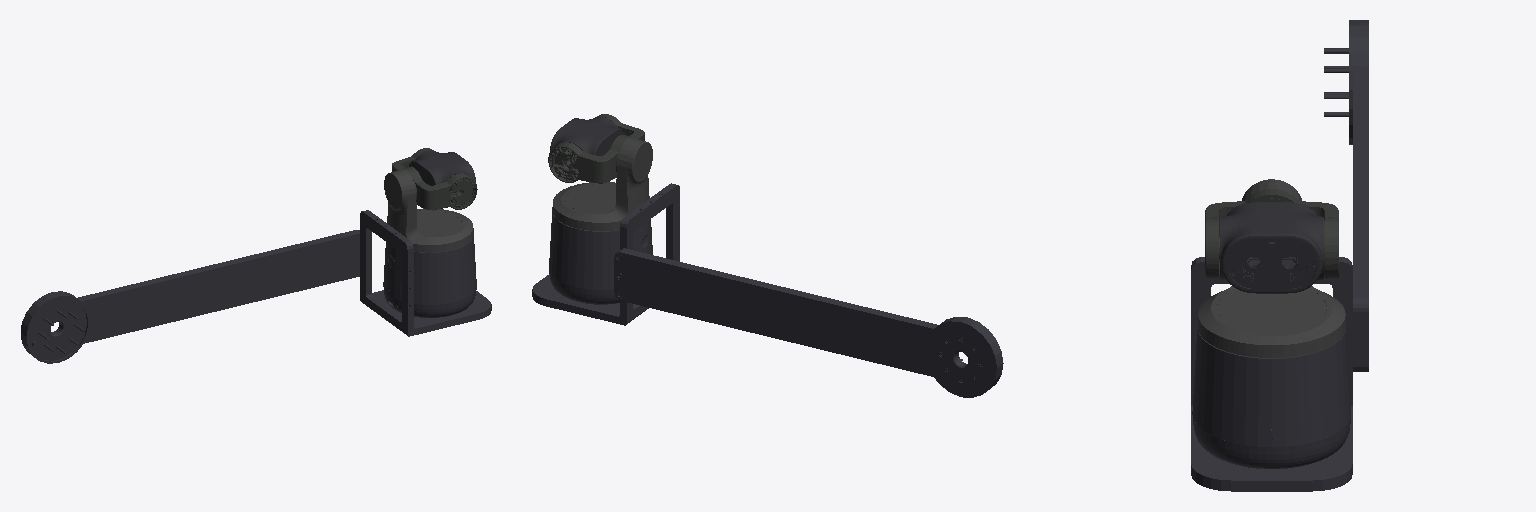
The robot description file, URDF, robot "eMeetArm_with_chassis":
<!--
  eMeetArm_with_chassis.urdf
  合并描述：FW-mini 底盘 + eMeetArm 机械臂

  TF 树结构：
    base_link (底盘根节点，nav2 使用)
      └─ arm_base_joint (fixed)
           └─ arm_base_link (机械臂基座，原 base_link 重命名)
                └─ Joint1 → Link1
                     └─ Joint2 → Link2
                          └─ Joint3 → Link3
                               └─ Joint4 → Link4
                                    └─ Joint5 → Link5
                                         └─ Joint6 → Link6
                                              └─ tool0_joint → tool0
                                                   └─ camera_optical_joint → camera_optical_frame

  说明：
  - 删除了原机械臂 URDF 中的 world / world_joint，底盘 base_link 作为根节点
  - 机械臂原 base_link 重命名为 arm_base_link，避免与底盘冲突
  - arm_base_joint 的 origin xyz 为机械臂相对底盘的安装偏移，按实物测量后调整
  - 底盘 robot_state_publisher 已在 FW-mini.launch.py 中禁用，
    由 real.launch.py 统一发布此 URDF
-->
<robot name="eMeetArm_with_chassis">

  <!-- ══════════════════════════════════════════════════════════════════
       底盘（FW-mini）
       base_link 为整个机器人的根坐标系（TF 树根节点，nav2 导航使用）
       ════════════════════════════════════════════════════════════════ -->
  <link name="base_link">
    <visual>
      <origin xyz="0.235 0.175 0" rpy="1.57 0 -1.57"/>
      <geometry>
        <mesh filename="package://yhs_chassis_description/meshes/FW-mini.STL"/>
      </geometry>
      <material name="">
        <color rgba="0.8 0.8 0.8 1"/>
      </material>
    </visual>
    <collision>
      <origin xyz="0.235 0.175 0" rpy="1.57 0 -1.57"/>
      <geometry>
        <mesh filename="package://yhs_chassis_description/meshes/FW-mini.STL"/>
      </geometry>
    </collision>
    <!-- 占位惯量：实物模式不使用，仿真时按实际质量调整 -->
    <inertial>
      <origin xyz="0 0 0.1" rpy="0 0 0"/>
      <mass value="20.0"/>
      <inertia ixx="0.5" ixy="0" ixz="0" iyy="0.5" iyz="0" izz="0.8"/>
    </inertial>
  </link>

  <!-- 机械臂安装关节：底盘 base_link → 机械臂 arm_base_link（固定）
       请按实物测量机械臂基座相对底盘原点的位置后修改 xyz -->
  <joint name="arm_base_joint" type="fixed">
    <parent link="base_link"/>
    <child link="arm_base_link"/>
    <origin xyz="0 0 0.31" rpy="0 0 0"/>
  </joint>

  <!-- ══════════════════════════════════════════════════════════════════
       机械臂（eMeetArm）
       原 base_link 重命名为 arm_base_link，避免与底盘 base_link 冲突
       ════════════════════════════════════════════════════════════════ -->
  <link name="arm_base_link">
    <inertial>
      <origin
        xyz="-1.26513871156475E-05 -1.5742724565615E-05 0.0452777610383739"
        rpy="0 0 0"/>
      <mass value="2.9887249749171"/>
      <inertia
        ixx="0.0136862770640689"
        ixy="6.69045000229793E-07"
        ixz="-3.08621535501323E-07"
        iyy="0.0112779246258948"
        iyz="-2.26930660317598E-07"
        izz="0.0223184454586288"/>
    </inertial>
    <visual>
      <origin xyz="0 0 0" rpy="0 0 0"/>
      <geometry>
        <mesh filename="package://robot_arm_description/meshes/base_link.STL"/>
      </geometry>
      <material name="">
        <color rgba="0.22 0.22 0.23 1"/>
      </material>
    </visual>
    <collision>
      <origin xyz="0 0 0" rpy="0 0 0"/>
      <geometry>
        <mesh filename="package://robot_arm_description/meshes/base_link.STL"/>
      </geometry>
    </collision>
  </link>

  <link name="Link1">
    <inertial>
      <origin
        xyz="-7.4393277062379E-05 -0.00743203317797858 0.128765008589431"
        rpy="0 0 0"/>
      <mass value="2.35824980558236"/>
      <inertia
        ixx="0.00383791573125331"
        ixy="7.01396501492847E-07"
        ixz="-3.09202743571665E-06"
        iyy="0.00465819508220185"
        iyz="-0.000530039602599771"
        izz="0.00221408091488039"/>
    </inertial>
    <visual>
      <origin xyz="0 0 0" rpy="0 0 0"/>
      <geometry>
        <mesh filename="package://robot_arm_description/meshes/Link1.STL"/>
      </geometry>
      <material name="">
        <color rgba="0.25 0.25 0.25 1"/>
      </material>
    </visual>
    <collision>
      <origin xyz="0 0 0" rpy="0 0 0"/>
      <geometry>
        <mesh filename="package://robot_arm_description/meshes/Link1.STL"/>
      </geometry>
    </collision>
  </link>

  <joint name="Joint1" type="revolute">
    <origin xyz="0 0 0.1078" rpy="0 0 0"/>
    <parent link="arm_base_link"/>
    <child link="Link1"/>
    <axis xyz="0 0 1"/>
    <limit lower="-3.1" upper="3.1" effort="5" velocity="3.14"/>
    <dynamics damping="1.0" friction="0.0"/>
  </joint>

  <link name="Link2">
    <inertial>
      <origin
        xyz="0.262334166073163 -2.30075418332643E-05 0.0292792731278192"
        rpy="0 0 0"/>
      <mass value="1.23593589919935"/>
      <inertia
        ixx="0.000521066265507803"
        ixy="1.66498206532369E-07"
        ixz="1.28943373675324E-05"
        iyy="0.00836492400345204"
        iyz="-2.82843566382884E-07"
        izz="0.00851304966664655"/>
    </inertial>
    <visual>
      <origin xyz="0 0 0" rpy="0 0 0"/>
      <geometry>
        <mesh filename="package://robot_arm_description/meshes/Link2.STL"/>
      </geometry>
      <material name="">
        <color rgba="0.28 0.27 0.27 1"/>
      </material>
    </visual>
    <collision>
      <origin xyz="0 0 0" rpy="0 0 0"/>
      <geometry>
        <mesh filename="package://robot_arm_description/meshes/Link2.STL"/>
      </geometry>
    </collision>
  </link>

  <joint name="Joint2" type="revolute">
    <origin xyz="0 -0.0625 0.1502" rpy="1.5708 -0.30769 -3.1416"/>
    <parent link="Link1"/>
    <child link="Link2"/>
    <axis xyz="0 0 1"/>
    <limit lower="-0.8" upper="3.14" effort="30" velocity="3.14"/>
    <dynamics damping="5.0" friction="0.0"/>
  </joint>

  <link name="Link3">
    <inertial>
      <origin
        xyz="0.250990565530514 0.00808545394179894 -0.0222401755365892"
        rpy="0 0 0"/>
      <mass value="0.752556593812719"/>
      <inertia
        ixx="0.000425309657305075"
        ixy="-5.61728607430966E-05"
        ixz="-1.50015547434599E-06"
        iyy="0.00322998845965891"
        iyz="-5.25098997553526E-07"
        izz="0.00319703542103549"/>
    </inertial>
    <visual>
      <origin xyz="0 0 0" rpy="0 0 0"/>
      <geometry>
        <mesh filename="package://robot_arm_description/meshes/Link3.STL"/>
      </geometry>
      <material name="">
        <color rgba="0.26 0.26 0.29 1"/>
      </material>
    </visual>
    <collision>
      <origin xyz="0 0 0" rpy="0 0 0"/>
      <geometry>
        <mesh filename="package://robot_arm_description/meshes/Link3.STL"/>
      </geometry>
    </collision>
  </link>

  <joint name="Joint3" type="revolute">
    <origin xyz="0.35 0 0.089" rpy="0 0 2.8339"/>
    <parent link="Link2"/>
    <child link="Link3"/>
    <axis xyz="0 0 1"/>
    <limit lower="-3.14" upper="0.05" effort="5" velocity="3.14"/>
    <dynamics damping="3.0" friction="0.0"/>
  </joint>

  <link name="Link4">
    <inertial>
      <origin
        xyz="-0.0101264888829805 -9.43656253071801E-06 0.0183147239415546"
        rpy="0 0 0"/>
      <mass value="0.096843847451149"/>
      <inertia
        ixx="3.90651033692534E-05"
        ixy="-7.03126515657744E-09"
        ixz="1.31677639794987E-05"
        iyy="4.72677970007942E-05"
        iyz="-4.24198916633624E-09"
        izz="5.03679132119555E-05"/>
    </inertial>
    <visual>
      <origin xyz="0 0 0" rpy="0 0 0"/>
      <geometry>
        <mesh filename="package://robot_arm_description/meshes/Link4.STL"/>
      </geometry>
      <material name="">
        <color rgba="0.30 0.30 0.30 1"/>
      </material>
    </visual>
    <collision>
      <origin xyz="0 0 0" rpy="0 0 0"/>
      <geometry>
        <mesh filename="package://robot_arm_description/meshes/Link4.STL"/>
      </geometry>
    </collision>
  </link>

  <joint name="Joint4" type="revolute">
    <origin xyz="0.339 -0.024975 -0.04" rpy="1.5708 0 0"/>
    <parent link="Link3"/>
    <child link="Link4"/>
    <axis xyz="0 0 -1"/>
    <limit lower="-3.1" upper="3.1" effort="1" velocity="1"/>
    <dynamics damping="0.5" friction="0.0"/>
  </joint>

  <link name="Link5">
    <inertial>
      <origin xyz="0.0012638 0.00010623 0.021049" rpy="0 0 0"/>
      <mass value="0.045324"/>
      <inertia
        ixx="9.6597E-06"
        ixy="4.2023E-08"
        ixz="1.6641E-06"
        iyy="1.3078E-05"
        iyz="-8.5768E-08"
        izz="8.9202E-06"/>
    </inertial>
    <visual>
      <origin xyz="0 0 0" rpy="0 0 0"/>
      <geometry>
        <mesh filename="package://robot_arm_description/meshes/Link5.STL"/>
      </geometry>
      <material name="">
        <color rgba="0.27 0.28 0.27 1"/>
      </material>
    </visual>
    <collision>
      <origin xyz="0 0 0" rpy="0 0 0"/>
      <geometry>
        <mesh filename="package://robot_arm_description/meshes/Link5.STL"/>
      </geometry>
    </collision>
  </link>

  <joint name="Joint5" type="revolute">
    <origin xyz="-0.022739 0 0.048353" rpy="-1.5708 0 -1.5708"/>
    <parent link="Link4"/>
    <child link="Link5"/>
    <axis xyz="0 0 1"/>
    <limit lower="-0.7854" upper="0.7854" effort="1" velocity="1"/>
    <dynamics damping="0.5" friction="0.0"/>
  </joint>

  <link name="Link6">
    <inertial>
      <origin
        xyz="-0.000391828204109268 -5.10898276429028E-05 8.72654266097506E-05"
        rpy="0 0 0"/>
      <mass value="0.0550538676063611"/>
      <inertia
        ixx="1.97473690747458E-05"
        ixy="2.97287907271867E-08"
        ixz="-3.3993136804071E-08"
        iyy="1.6757375365036E-05"
        iyz="-1.34242857049597E-07"
        izz="1.07644206564509E-05"/>
    </inertial>
    <visual>
      <origin xyz="0 0 0" rpy="0 0 0"/>
      <geometry>
        <mesh filename="package://robot_arm_description/meshes/Link6.STL"/>
      </geometry>
      <material name="">
        <color rgba="0.24 0.24 0.26 1"/>
      </material>
    </visual>
    <collision>
      <origin xyz="0 0 0" rpy="0 0 0"/>
      <geometry>
        <mesh filename="package://robot_arm_description/meshes/Link6.STL"/>
      </geometry>
    </collision>
  </link>

  <joint name="Joint6" type="revolute">
    <origin xyz="0 0 0.03484" rpy="3.1416 -1.5708 0"/>
    <parent link="Link5"/>
    <child link="Link6"/>
    <axis xyz="0 0 -1"/>
    <limit lower="-1.5" upper="0.5" effort="1" velocity="1"/>
    <dynamics damping="0.5" friction="0.0"/>
  </joint>

  <link name="tool0"/>
  <joint name="tool0_joint" type="fixed">
    <parent link="Link6"/>
    <child link="tool0"/>
    <origin xyz="0 0 0" rpy="0 0 0"/>
  </joint>

  <link name="camera_optical_frame"/>
  <joint name="camera_optical_joint" type="fixed">
    <parent link="tool0"/>
    <child link="camera_optical_frame"/>
    <origin xyz="0 0 0" rpy="0 -1.5708 3.1416"/>
  </joint>

  <!-- Arm joints 1-3: Gazebo simulation / future CANopen hardware plugin -->
  <ros2_control name="eMeetArm_hardware" type="system">
    <hardware>
      <plugin>gazebo_ros2_control/GazeboSystem</plugin>
    </hardware>
    <joint name="Joint1">
      <command_interface name="position">
        <param name="min">-3.1</param>
        <param name="max">3.1</param>
      </command_interface>
      <command_interface name="velocity"/>
      <state_interface name="position">
        <param name="initial_value">0.0</param>
      </state_interface>
      <state_interface name="velocity"/>
    </joint>
    <joint name="Joint2">
      <command_interface name="position">
        <param name="min">-0.8</param>
        <param name="max">3.14</param>
      </command_interface>
      <command_interface name="velocity"/>
      <state_interface name="position">
        <param name="initial_value">0.0</param>
      </state_interface>
      <state_interface name="velocity"/>
    </joint>
    <joint name="Joint3">
      <command_interface name="position">
        <param name="min">-3.14</param>
        <param name="max">0.05</param>
      </command_interface>
      <command_interface name="velocity"/>
      <state_interface name="position">
        <param name="initial_value">0.0</param>
      </state_interface>
      <state_interface name="velocity"/>
    </joint>
  </ros2_control>

  <!-- Camera joints 4-6: EMEET PTZ HID hardware plugin -->
  <ros2_control name="eMeetCamera_hardware" type="system">
    <hardware>
      <plugin>emeet_camera_driver/CameraHardwareInterface</plugin>
      <param name="camera_type">auto</param>
      <param name="sim_mode">true</param>
    </hardware>
    <joint name="Joint4">
      <command_interface name="position">
        <param name="min">-3.1</param>
        <param name="max">3.1</param>
      </command_interface>
      <command_interface name="velocity"/>
      <state_interface name="position">
        <param name="initial_value">0.0</param>
      </state_interface>
      <state_interface name="velocity"/>
    </joint>
    <joint name="Joint5">
      <command_interface name="position">
        <param name="min">-0.7854</param>
        <param name="max">0.7854</param>
      </command_interface>
      <command_interface name="velocity"/>
      <state_interface name="position">
        <param name="initial_value">0.0</param>
      </state_interface>
      <state_interface name="velocity"/>
    </joint>
    <joint name="Joint6">
      <command_interface name="position">
        <param name="min">-1.5</param>
        <param name="max">0.5</param>
      </command_interface>
      <command_interface name="velocity"/>
      <state_interface name="position">
        <param name="initial_value">0.0</param>
      </state_interface>
      <state_interface name="velocity"/>
    </joint>
  </ros2_control>

  <gazebo reference="arm_base_link">
    <visual>
      <material>
        <ambient>0.55 0.57 0.60 1</ambient>
        <diffuse>0.75 0.77 0.80 1</diffuse>
        <specular>0.95 0.95 0.95 80</specular>
        <emissive>0 0 0 1</emissive>
      </material>
    </visual>
  </gazebo>
  <gazebo reference="Link1">
    <visual>
      <material>
        <ambient>0.55 0.57 0.60 1</ambient>
        <diffuse>0.75 0.77 0.80 1</diffuse>
        <specular>0.95 0.95 0.95 80</specular>
        <emissive>0 0 0 1</emissive>
      </material>
    </visual>
  </gazebo>
  <gazebo reference="Link2">
    <visual>
      <material>
        <ambient>0.55 0.57 0.60 1</ambient>
        <diffuse>0.75 0.77 0.80 1</diffuse>
        <specular>0.95 0.95 0.95 80</specular>
        <emissive>0 0 0 1</emissive>
      </material>
    </visual>
  </gazebo>
  <gazebo reference="Link3">
    <visual>
      <material>
        <ambient>0.55 0.57 0.60 1</ambient>
        <diffuse>0.75 0.77 0.80 1</diffuse>
        <specular>0.95 0.95 0.95 80</specular>
        <emissive>0 0 0 1</emissive>
      </material>
    </visual>
  </gazebo>
  <gazebo reference="Link4">
    <visual>
      <material>
        <ambient>0.55 0.57 0.60 1</ambient>
        <diffuse>0.75 0.77 0.80 1</diffuse>
        <specular>0.95 0.95 0.95 80</specular>
        <emissive>0 0 0 1</emissive>
      </material>
    </visual>
  </gazebo>
  <gazebo reference="Link5">
    <visual>
      <material>
        <ambient>0.55 0.57 0.60 1</ambient>
        <diffuse>0.75 0.77 0.80 1</diffuse>
        <specular>0.95 0.95 0.95 80</specular>
        <emissive>0 0 0 1</emissive>
      </material>
    </visual>
  </gazebo>
  <gazebo reference="Link6">
    <visual>
      <material>
        <ambient>0.55 0.57 0.60 1</ambient>
        <diffuse>0.75 0.77 0.80 1</diffuse>
        <specular>0.95 0.95 0.95 80</specular>
        <emissive>0 0 0 1</emissive>
      </material>
    </visual>
    <sensor name="camera_sensor" type="camera">
      <pose>0 0 0 -1.5708 0 0</pose>
      <camera name="head">
        <horizontal_fov>1.518</horizontal_fov>
        <image>
          <width>640</width>
          <height>480</height>
          <format>R8G8B8</format>
        </image>
        <clip>
          <near>0.05</near>
          <far>10.0</far>
        </clip>
      </camera>
      <plugin name="camera_controller" filename="libgazebo_ros_camera.so">
        <frame_name>camera_optical_frame</frame_name>
        <ros>
          <namespace>/camera</namespace>
        </ros>
      </plugin>
      <always_on>1</always_on>
      <update_rate>30</update_rate>
      <visualize>true</visualize>
    </sensor>
  </gazebo>

  <gazebo>
    <plugin name="gazebo_ros2_control" filename="libgazebo_ros2_control.so">
      <parameters>CONTROLLERS_YAML_PATH</parameters>
    </plugin>
  </gazebo>

</robot>

--- Facts derived from the render (not from the file) ---
Views: 3 orthographic renders of the robot side by side, from view 1: azimuth 30°, elevation 25°; view 2: azimuth 150°, elevation 25°; view 3: azimuth 270°, elevation 25°.
Robot: eMeetArm_with_chassis — 10 links, 9 joints (6 revolute, 3 fixed); root link base_link; default pose: all joints at 0.
Links seen in each view (by area): view 1: Link3, Link4, Link5, Link6; view 2: Link3, Link4, Link5, Link6; view 3: Link3, Link4, Link6, Link5.
Boxes of the visible links, box(x1,y1,x2,y2) form: Link3: box(21, 210, 491, 363); Link4: box(384, 169, 473, 252); Link5: box(392, 148, 477, 209); Link6: box(409, 151, 475, 203); Link3: box(532, 183, 1003, 397); Link4: box(552, 137, 652, 230); Link5: box(548, 114, 644, 183); Link6: box(549, 117, 624, 155); Link3: box(1191, 20, 1368, 491); Link4: box(1198, 179, 1345, 357); Link6: box(1220, 202, 1323, 293); Link5: box(1205, 189, 1338, 279).
Size in the robot's own frame: 0.415 by 0.088 by 0.134 metres.
4 mesh visuals loaded from 8 distinct referenced files (4 binary STL); not drawn: 4 (reference not matched to a file when rendering).
